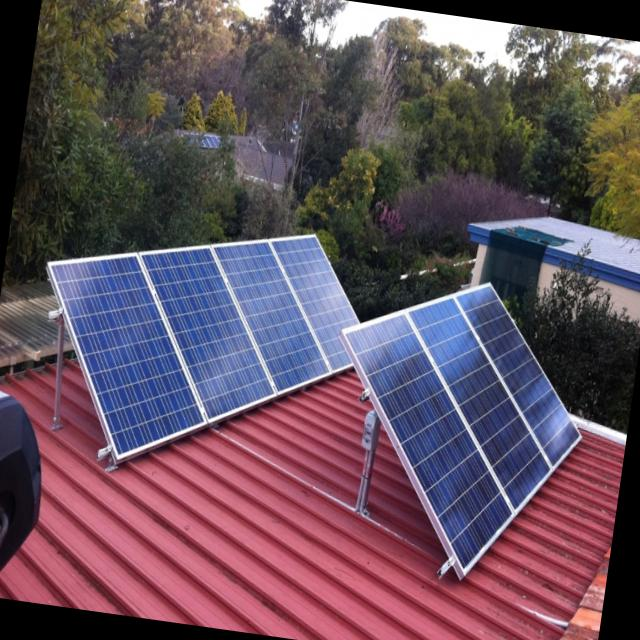no faulty: (56, 238, 354, 454), (359, 285, 581, 563)
